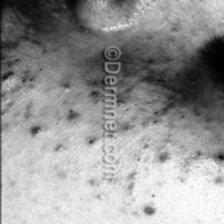Non-Cancerous Skin Condition: (118, 64, 174, 138), (151, 152, 169, 164), (141, 202, 156, 216), (214, 155, 223, 161)
